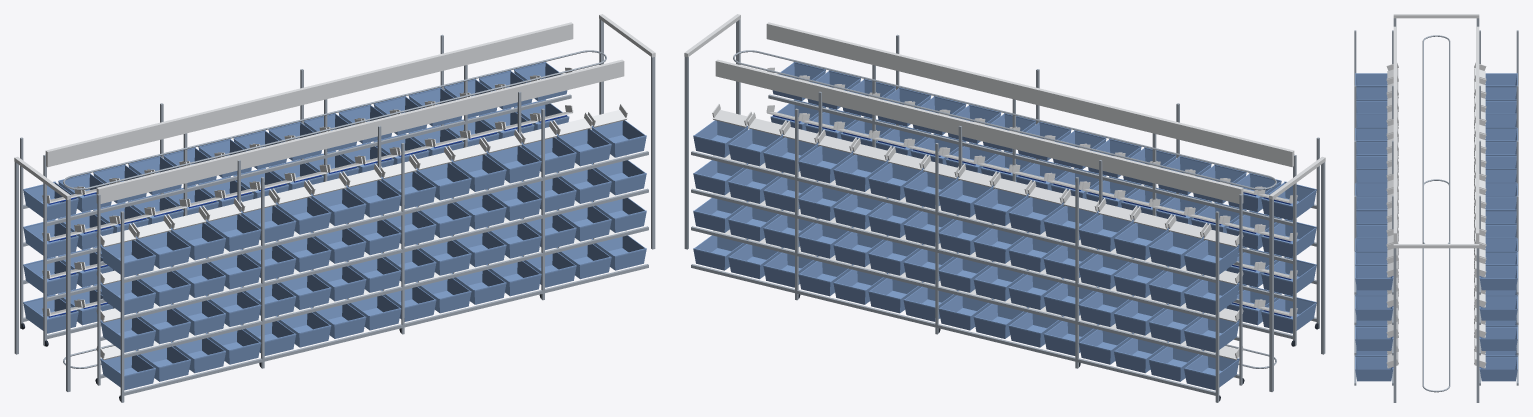
Rendered from SM_MPR_SorterSimBody120.fbx.
The picture shows the model from 3 angles, left to right: view 1: azimuth 30°, elevation 25°; view 2: azimuth 150°, elevation 25°; view 3: azimuth 270°, elevation 25°; orthographic projection. The views are drawn at different scales.
Parts seen in each view (by area): view 1: SM_MPR_SorterSimBody120; view 2: SM_MPR_SorterSimBody120; view 3: SM_MPR_SorterSimBody120.
Boxes of the visible parts, x1=… form: SM_MPR_SorterSimBody120: x1=14, y1=14, x2=655, y2=402; SM_MPR_SorterSimBody120: x1=684, y1=14, x2=1325, y2=402; SM_MPR_SorterSimBody120: x1=1354, y1=14, x2=1518, y2=402.
Bounding box in the file's own units: 728 × 219 × 232.
